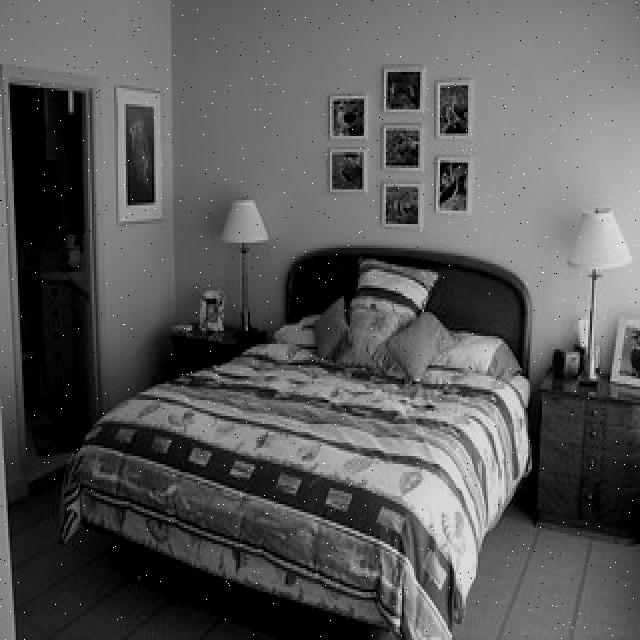bed: (81, 254, 542, 617)
